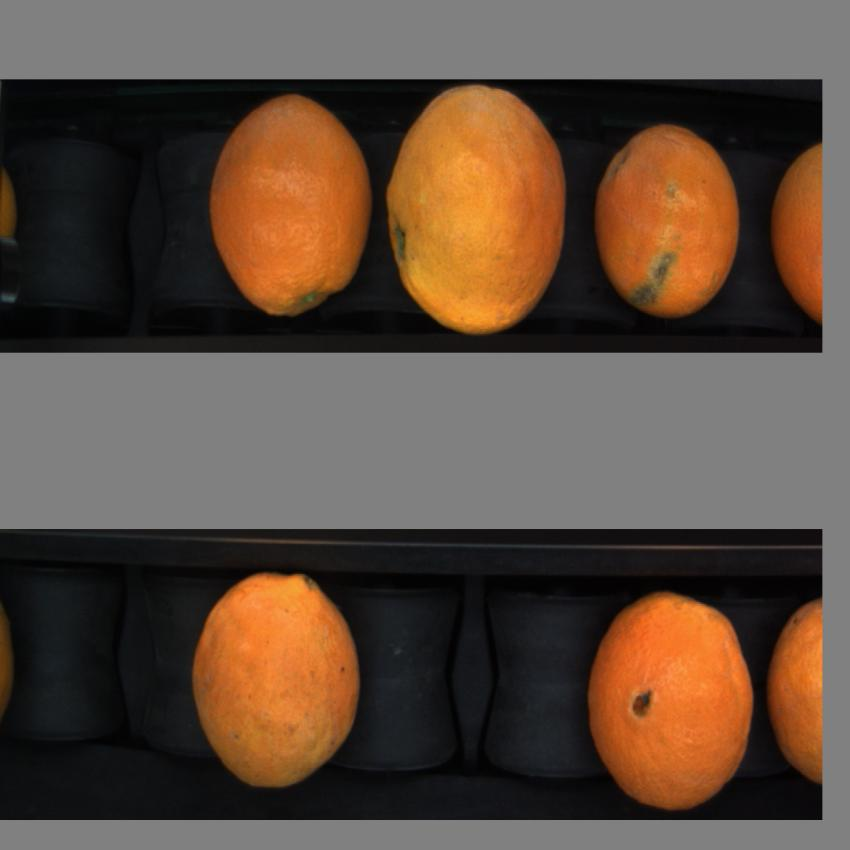Buen estado: (381, 88, 575, 338), (582, 586, 758, 812), (203, 93, 373, 324), (188, 574, 373, 784), (763, 590, 823, 782), (767, 129, 822, 321)
Mal estado: (596, 116, 746, 316)
